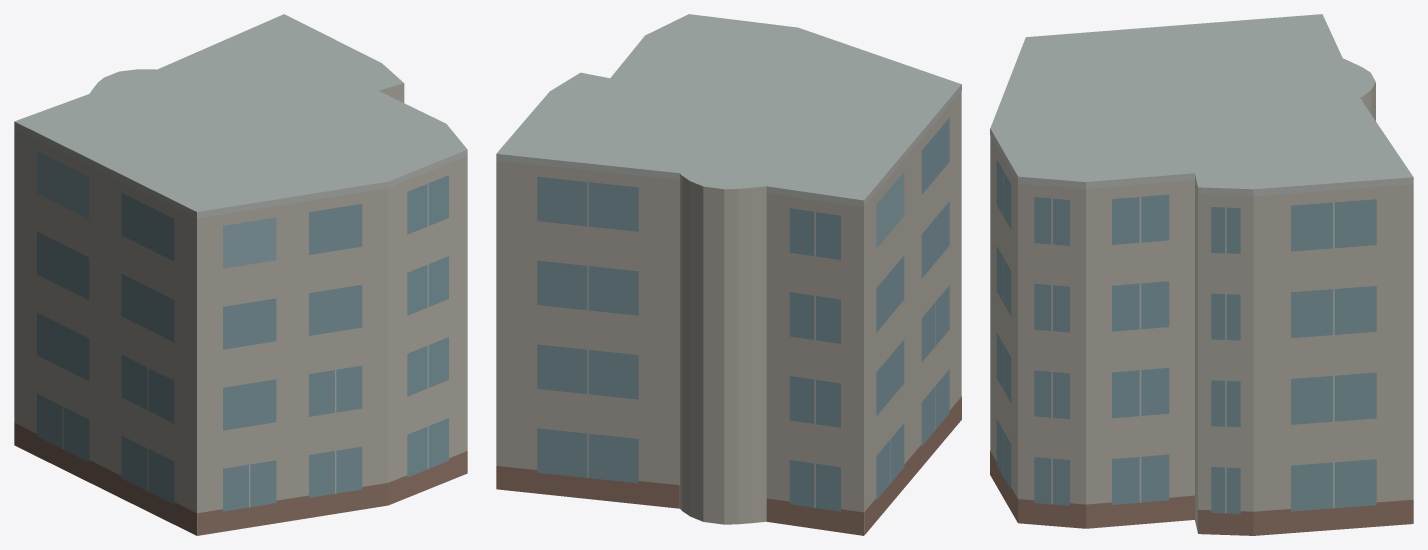
The model's file is survey-upis-32994811.glb.
The picture shows the model from 3 angles, left to right: view 1: azimuth 30°, elevation 25°; view 2: azimuth 150°, elevation 25°; view 3: azimuth 270°, elevation 25°; orthographic projection. The views are drawn at different scales.
Visible parts, largest first — view 1: survey-upis-32994811.tmp; view 2: survey-upis-32994811.tmp; view 3: survey-upis-32994811.tmp.
Boxes of the visible parts, x1,y1,x2,y2 form: survey-upis-32994811.tmp: (14,14,467,535); survey-upis-32994811.tmp: (496,14,961,535); survey-upis-32994811.tmp: (990,14,1413,535).
Bounding box in the file's own units: 13.24 × 12.2 × 13.52.
